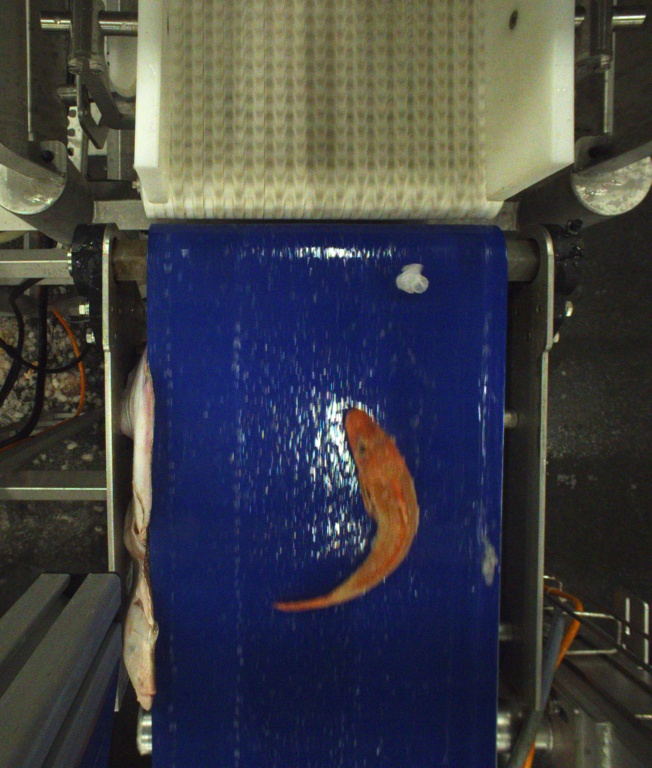GUU: (276, 406, 420, 611)
